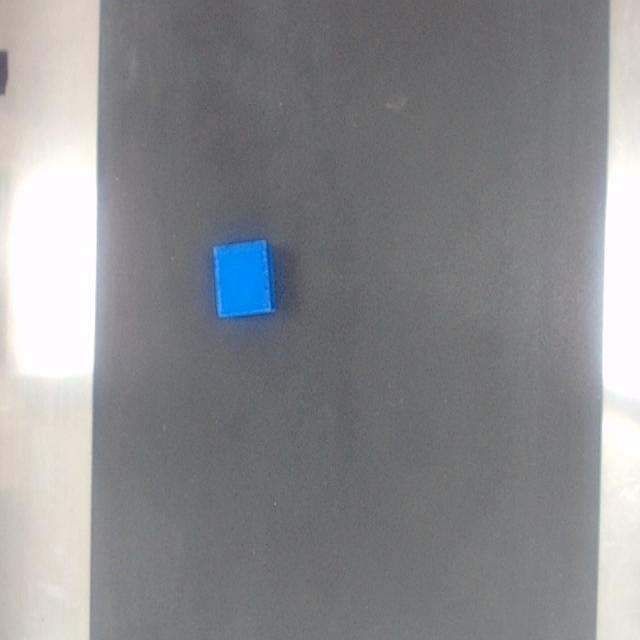Azul: (213, 240, 275, 316)
